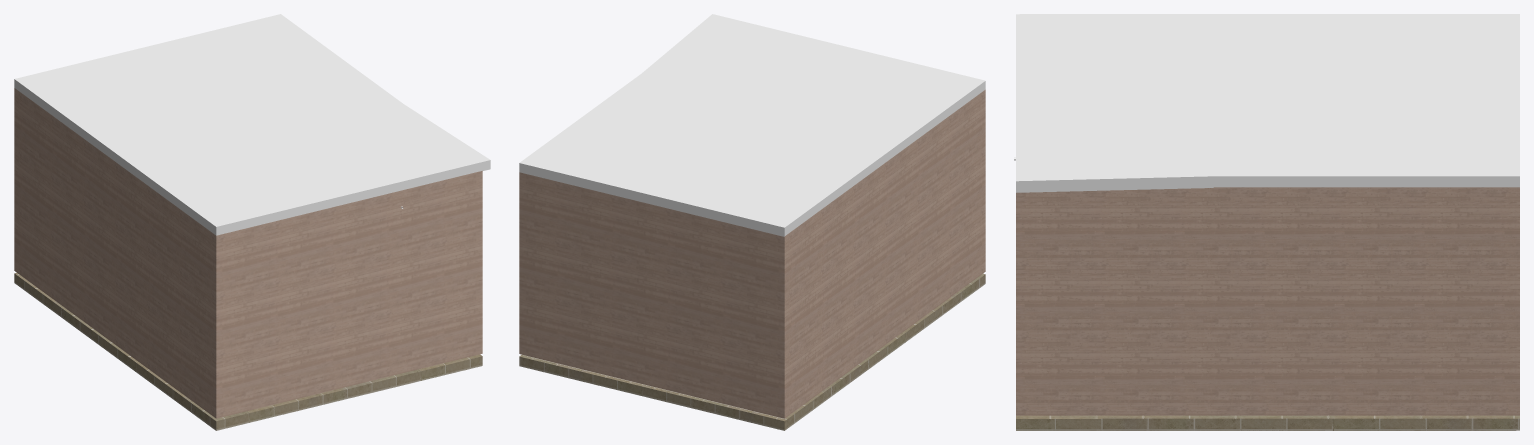
Rendered from FloorPlan415_physics.fbx.
3 views of the same model, side by side, from view 1: azimuth 30°, elevation 25°; view 2: azimuth 150°, elevation 25°; view 3: azimuth 270°, elevation 25° (orthographic). The views are drawn at different scales.
Visible parts, largest first — view 1: FP415:Walls, FP415:Ceiling, FP415:Floor; view 2: FP415:Walls, FP415:Ceiling, FP415:Floor; view 3: FP415:Walls, FP415:Ceiling, FP415:Floor.
Boxes of the visible parts, box(x1,y1,x2,y2) form: FP415:Walls: box(14, 88, 482, 418); FP415:Ceiling: box(14, 14, 490, 235); FP415:Floor: box(14, 272, 482, 430); FP415:Walls: box(519, 89, 985, 418); FP415:Ceiling: box(519, 14, 985, 236); FP415:Floor: box(519, 273, 985, 430); FP415:Walls: box(1016, 187, 1519, 415); FP415:Ceiling: box(1016, 14, 1519, 192); FP415:Floor: box(1016, 415, 1519, 430).
Bounding box in the file's own units: 330 × 234 × 422.
